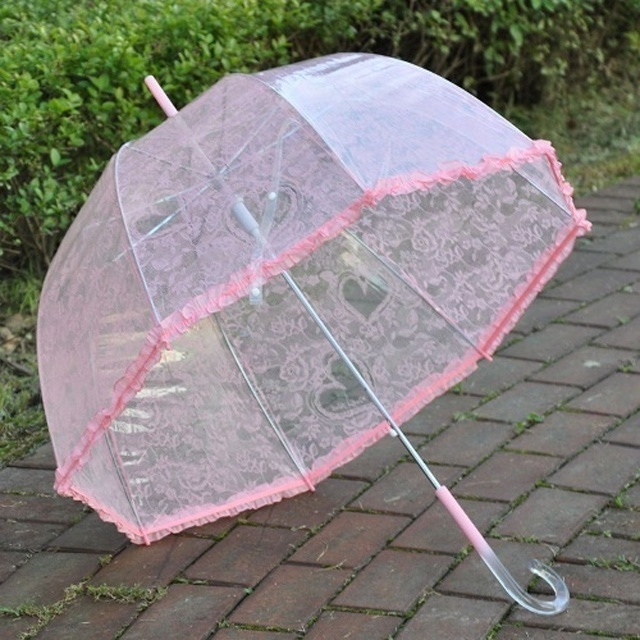umbrella: (24, 38, 592, 618)
